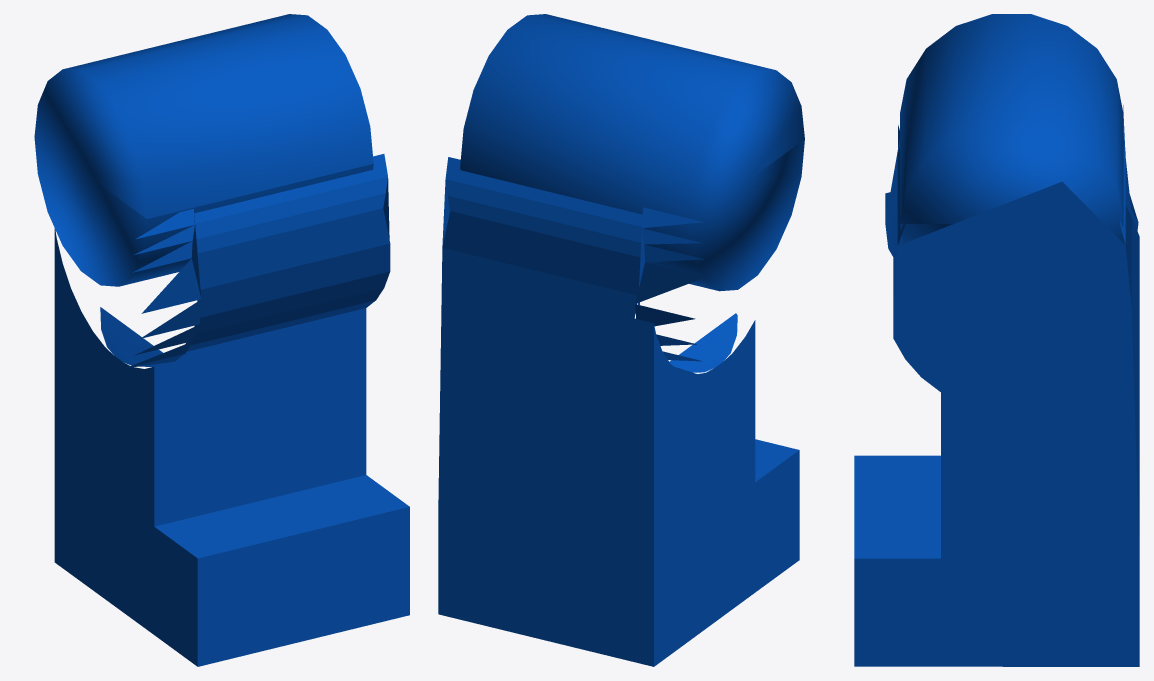
Rendered from legR.glb.
3 renders of one model, left to right at view 1: azimuth 30°, elevation 25°; view 2: azimuth 150°, elevation 25°; view 3: azimuth 270°, elevation 25°, orthographic. The views are drawn at different scales.
Visible parts, largest first — view 1: baker_legR; view 2: baker_legR; view 3: baker_legR.
Part boxes in pixels (box(x1,y1,x2,y2)): baker_legR: box(34, 14, 409, 666); baker_legR: box(438, 14, 804, 666); baker_legR: box(854, 14, 1139, 666).
Size of the model in its own units: 0.3561 by 0.7237 by 0.3488.
